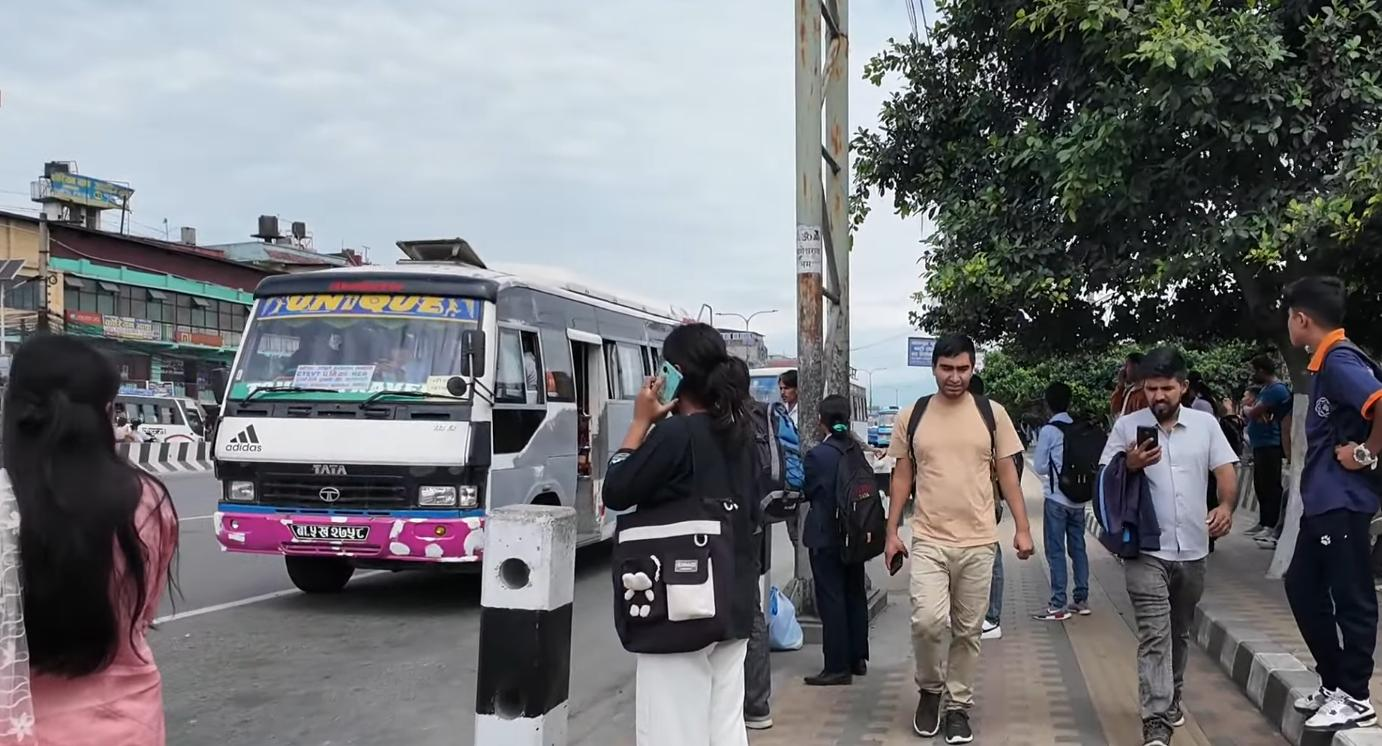bus: (204, 224, 738, 592)
